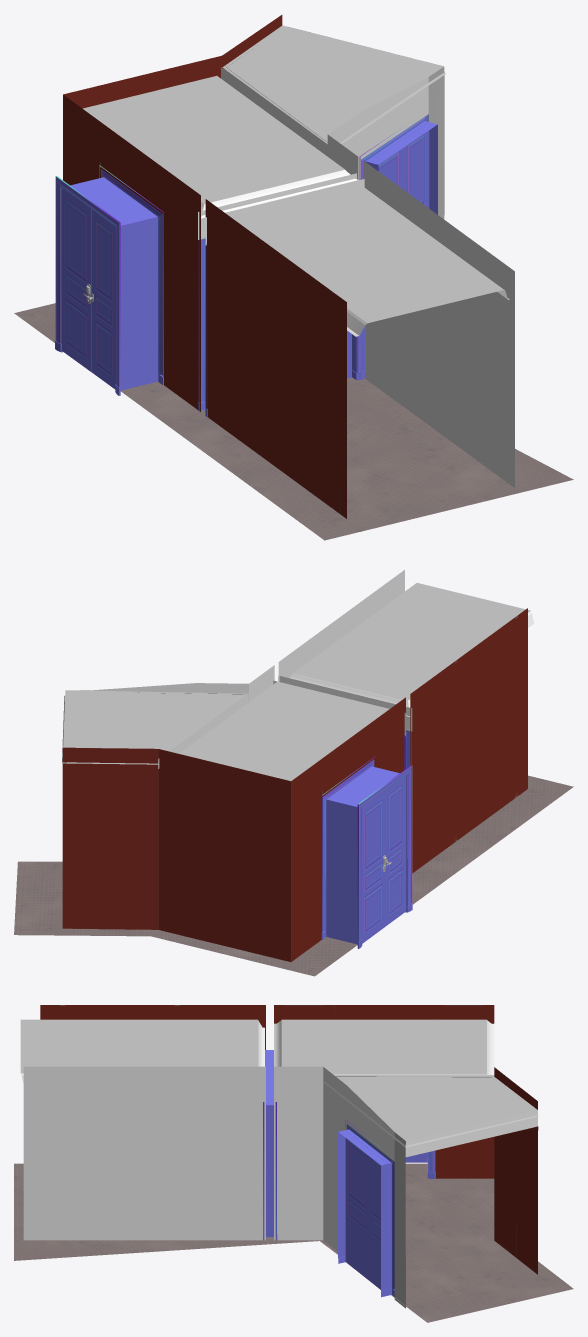
The model's file is HallwaySceene2_Left.fbx.
3 views of the same model, one above another, from view 1: azimuth 30°, elevation 25°; view 2: azimuth 150°, elevation 25°; view 3: azimuth 270°, elevation 25° (orthographic). The views are drawn at different scales.
Parts seen in each view (by area): view 1: polySurface234, polySurface264, polySurface256, polySurface255; view 2: polySurface234, polySurface264, polySurface256, polySurface255; view 3: polySurface234, polySurface264.
Part boxes in pixels (left/top/right/bottom): polySurface234: left=14, top=15, right=573, bottom=540; polySurface264: left=55, top=114, right=437, bottom=417; polySurface256: left=62, top=188, right=91, bottom=371; polySurface255: left=87, top=209, right=115, bottom=389; polySurface234: left=14, top=570, right=573, bottom=976; polySurface264: left=321, top=729, right=412, bottom=948; polySurface256: left=361, top=791, right=386, bottom=943; polySurface255: left=385, top=776, right=406, bottom=926; polySurface234: left=14, top=1005, right=573, bottom=1322; polySurface264: left=263, top=1050, right=435, bottom=1297.
Size of the model in its own units: 581 by 294 by 845.
